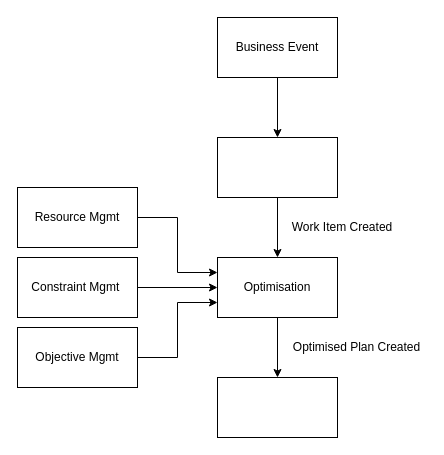
Some shapes in this 444 by 455 pixel diagram are drawn without their labels. Each missing label, with the centre of its shape:
"External Execution" belongs at pixel 277 407.
"Work Management" belongs at pixel 277 167.
